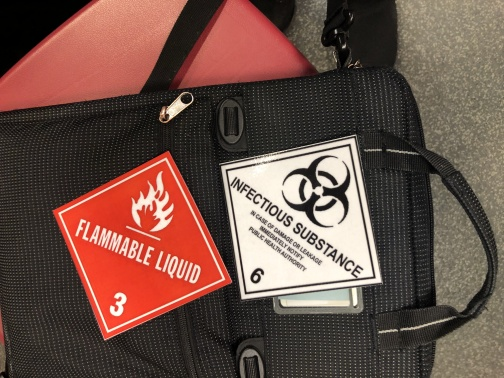FlammableLiquid: (52, 151, 233, 340)
InfectiousSubstance: (219, 134, 384, 300)
